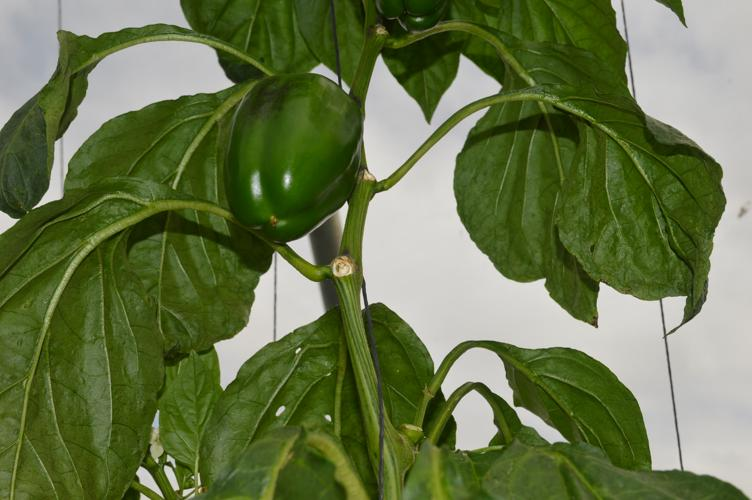BellPepper: (221, 74, 366, 240)
